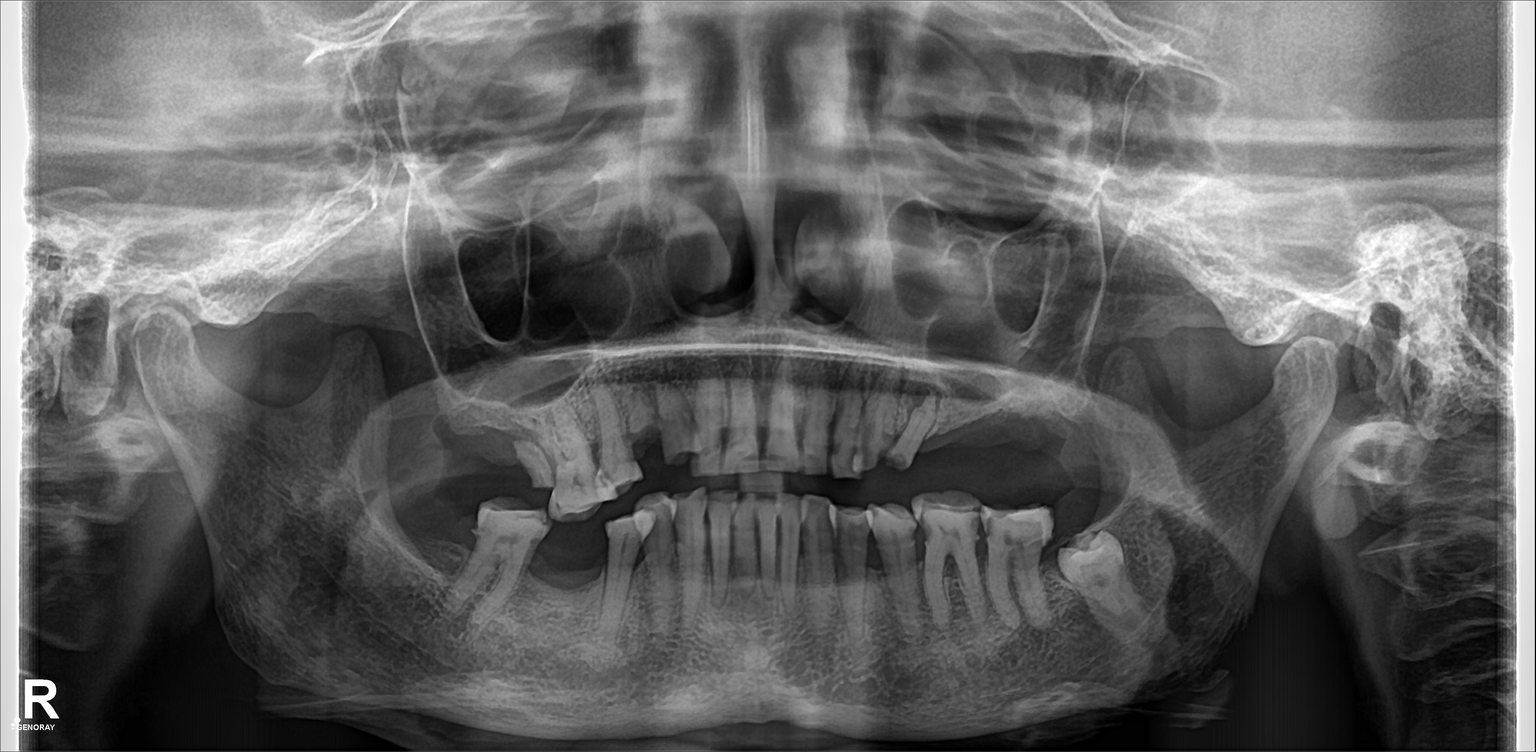Dental Caries: (913, 519, 928, 563)
Impacted Third Molar: (1058, 521, 1134, 637)
Missing Tooth: (467, 395, 515, 492), (544, 530, 591, 627), (410, 400, 463, 484), (1073, 393, 1113, 492), (434, 493, 474, 582), (1028, 389, 1067, 478), (395, 490, 428, 587), (989, 396, 1018, 483), (950, 396, 979, 474)
Retained Root: (628, 389, 670, 468), (527, 419, 556, 496)
